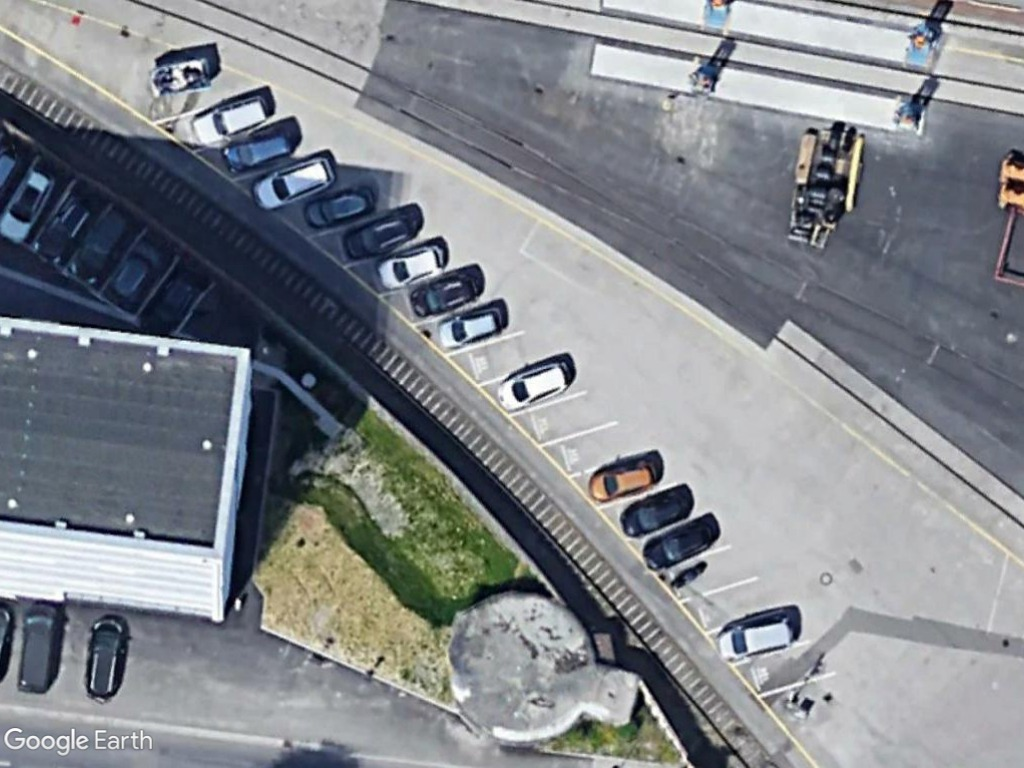car: (248, 154, 337, 214), (637, 517, 727, 576), (337, 208, 422, 262), (192, 94, 274, 149), (494, 359, 576, 414), (0, 163, 55, 244), (713, 614, 799, 664), (82, 614, 128, 704), (617, 487, 696, 539), (221, 128, 298, 178), (374, 242, 448, 294), (408, 272, 486, 320), (302, 184, 377, 233), (584, 459, 661, 506), (433, 306, 506, 353)
van: (15, 599, 62, 697)
